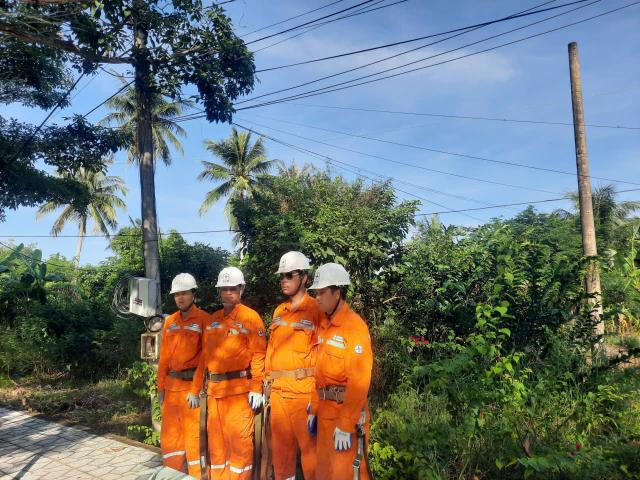gloves: (328, 426, 360, 450), (300, 409, 325, 438), (243, 390, 269, 411), (154, 386, 171, 408), (185, 391, 202, 409)
harness: (259, 366, 320, 385), (315, 378, 360, 403), (203, 366, 252, 384), (157, 363, 206, 380)
helmet: (311, 256, 350, 289), (273, 248, 312, 279), (166, 273, 202, 298), (212, 269, 249, 289)
